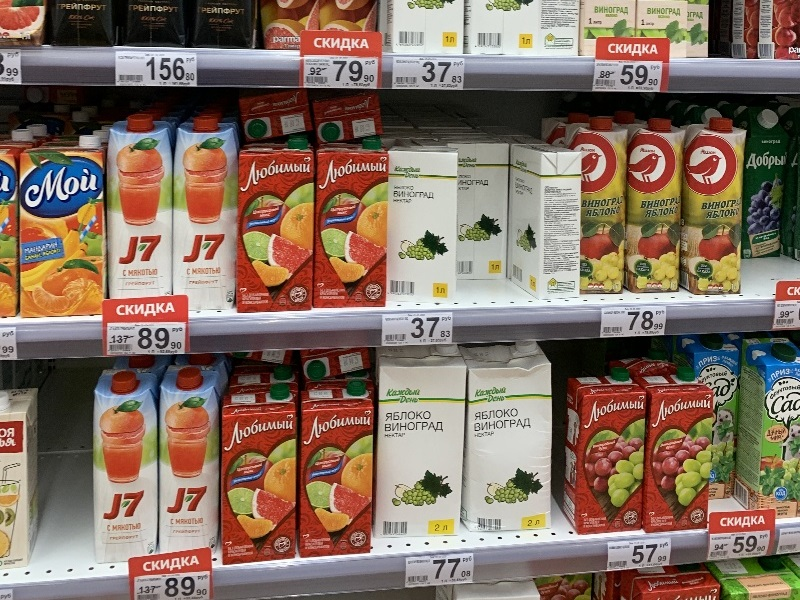juice: (18, 133, 117, 323), (94, 113, 187, 307), (210, 382, 302, 569), (229, 135, 320, 319), (305, 138, 400, 314), (557, 369, 648, 541), (294, 375, 378, 561), (168, 113, 241, 315), (681, 114, 754, 305), (638, 369, 721, 535), (93, 369, 163, 563), (154, 366, 224, 553), (616, 118, 689, 297), (732, 335, 800, 517)
